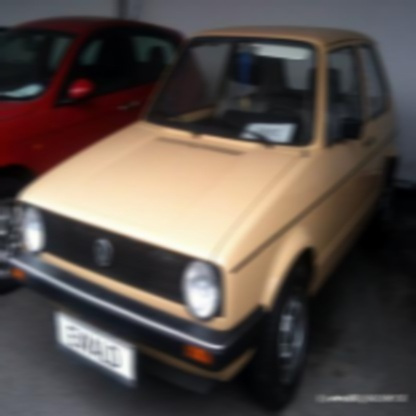Vehicle: (7, 25, 402, 410)
